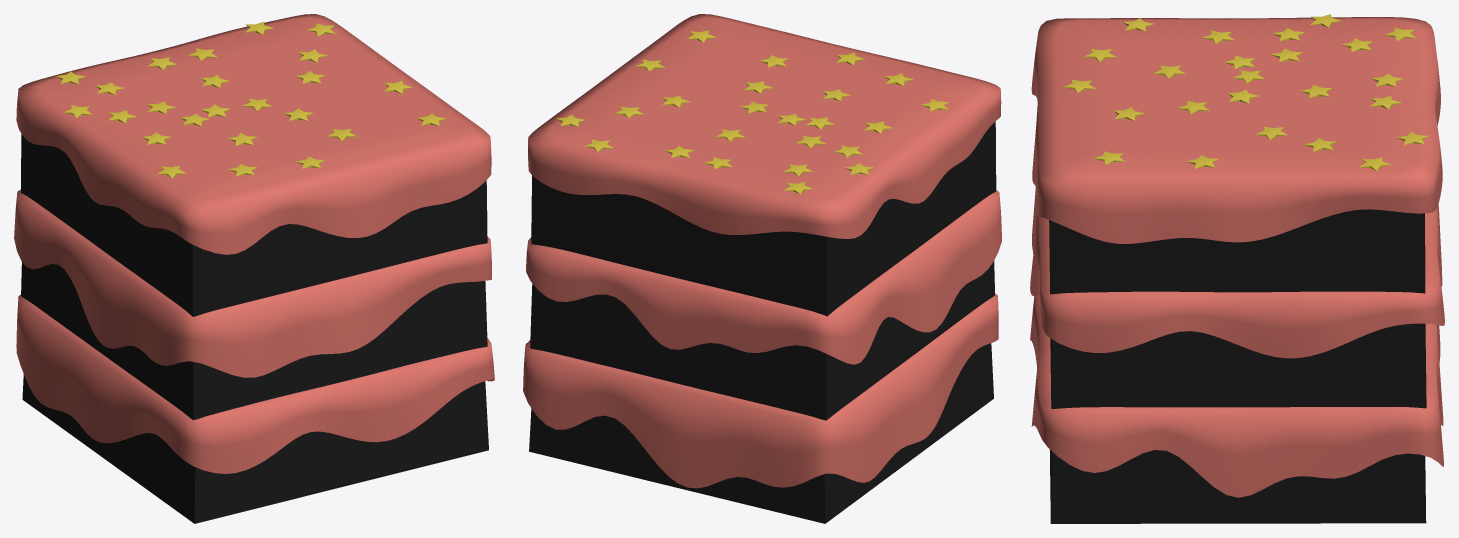
The model's file is cake.fbx.
The picture shows the model from 3 angles, left to right: view 1: azimuth 30°, elevation 25°; view 2: azimuth 150°, elevation 25°; view 3: azimuth 270°, elevation 25°; orthographic projection. The views are drawn at different scales.
Parts seen in each view (by area): view 1: Cube.003; view 2: Cube.003; view 3: Cube.003.
Part boxes in pixels (x1,y1,x2,y2): Cube.003: (14,14,494,523); Cube.003: (523,14,1001,523); Cube.003: (1030,14,1444,523).
Bounding box in the file's own units: 216 × 203 × 216.
